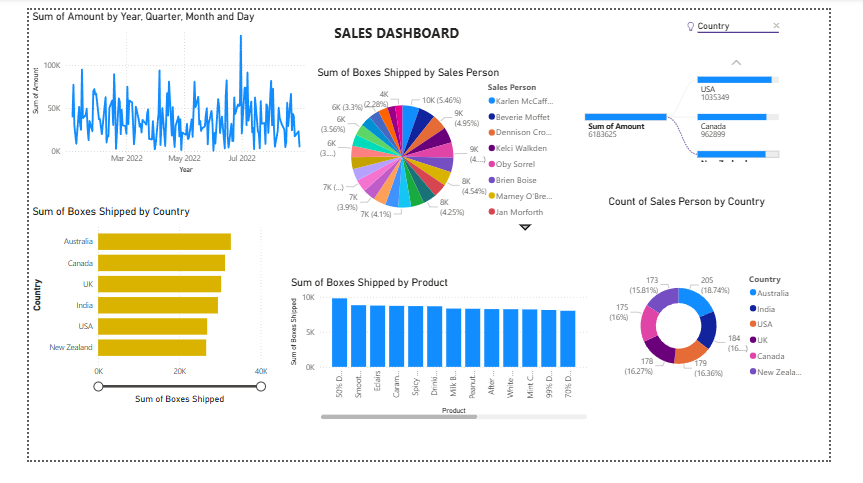

Layout of this report page (visuals, bound fields, positions):
{"tool":"powerbi","page":{"name":"Page 1","canvas":[1280,720],"ordinal":0},"visuals":[{"type":"barChart","fields":{"Category":["data.Country"],"Y":["Sum(data.Boxes Shipped)"]},"box":[0,312,386,322],"z":0},{"type":"columnChart","fields":{"Category":["data.Product"],"Y":["Sum(data.Boxes Shipped)"]},"box":[414,426,484,234],"z":1},{"type":"lineChart","fields":{"Category":["data.Date.Variation.Date Hierarchy.Year","data.Date.Variation.Date Hierarchy.Quarter","data.Date.Variation.Date Hierarchy.Month","data.Date.Variation.Date Hierarchy.Day"],"Y":["Sum(data.Amount)"]},"box":[0,0,460,266],"z":2},{"type":"textbox","box":[413.3,16.7,348.9,38.9],"z":3},{"type":"decompositionTreeVisual","fields":{"ExplainBy":["data.Country"],"Analyze":["Sum(data.Amount)"]},"box":[860,0,420,248],"z":4},{"type":"pieChart","fields":{"Category":["data.Sales Person"],"Y":["Sum(data.Boxes Shipped)"]},"box":[456,90,400,270],"z":5},{"type":"donutChart","fields":{"Y":["CountNonNull(data.Sales Person)"],"Category":["data.Country"]},"box":[922,296,332,400],"z":6}]}

Visuals, with their boxes in screenshot pixels (x1, y1, x2, y2), scaled from the page's 1280x720 canvas onto the 863x483 screenshot:
barChart - data.Country x Sum(data.Boxes Shipped): 0/209/260/425
columnChart - data.Product x Sum(data.Boxes Shipped): 279/286/605/443
lineChart - data.Date.Variation.Date Hierarchy.Year x data.Date.Variation.Date Hierarchy.Quarter: 0/0/310/178
textbox: 279/11/514/37
decompositionTreeVisual - data.Country x Sum(data.Amount): 580/0/862/166
pieChart - data.Sales Person x Sum(data.Boxes Shipped): 307/60/577/241
donutChart - CountNonNull(data.Sales Person) x data.Country: 622/199/845/467
